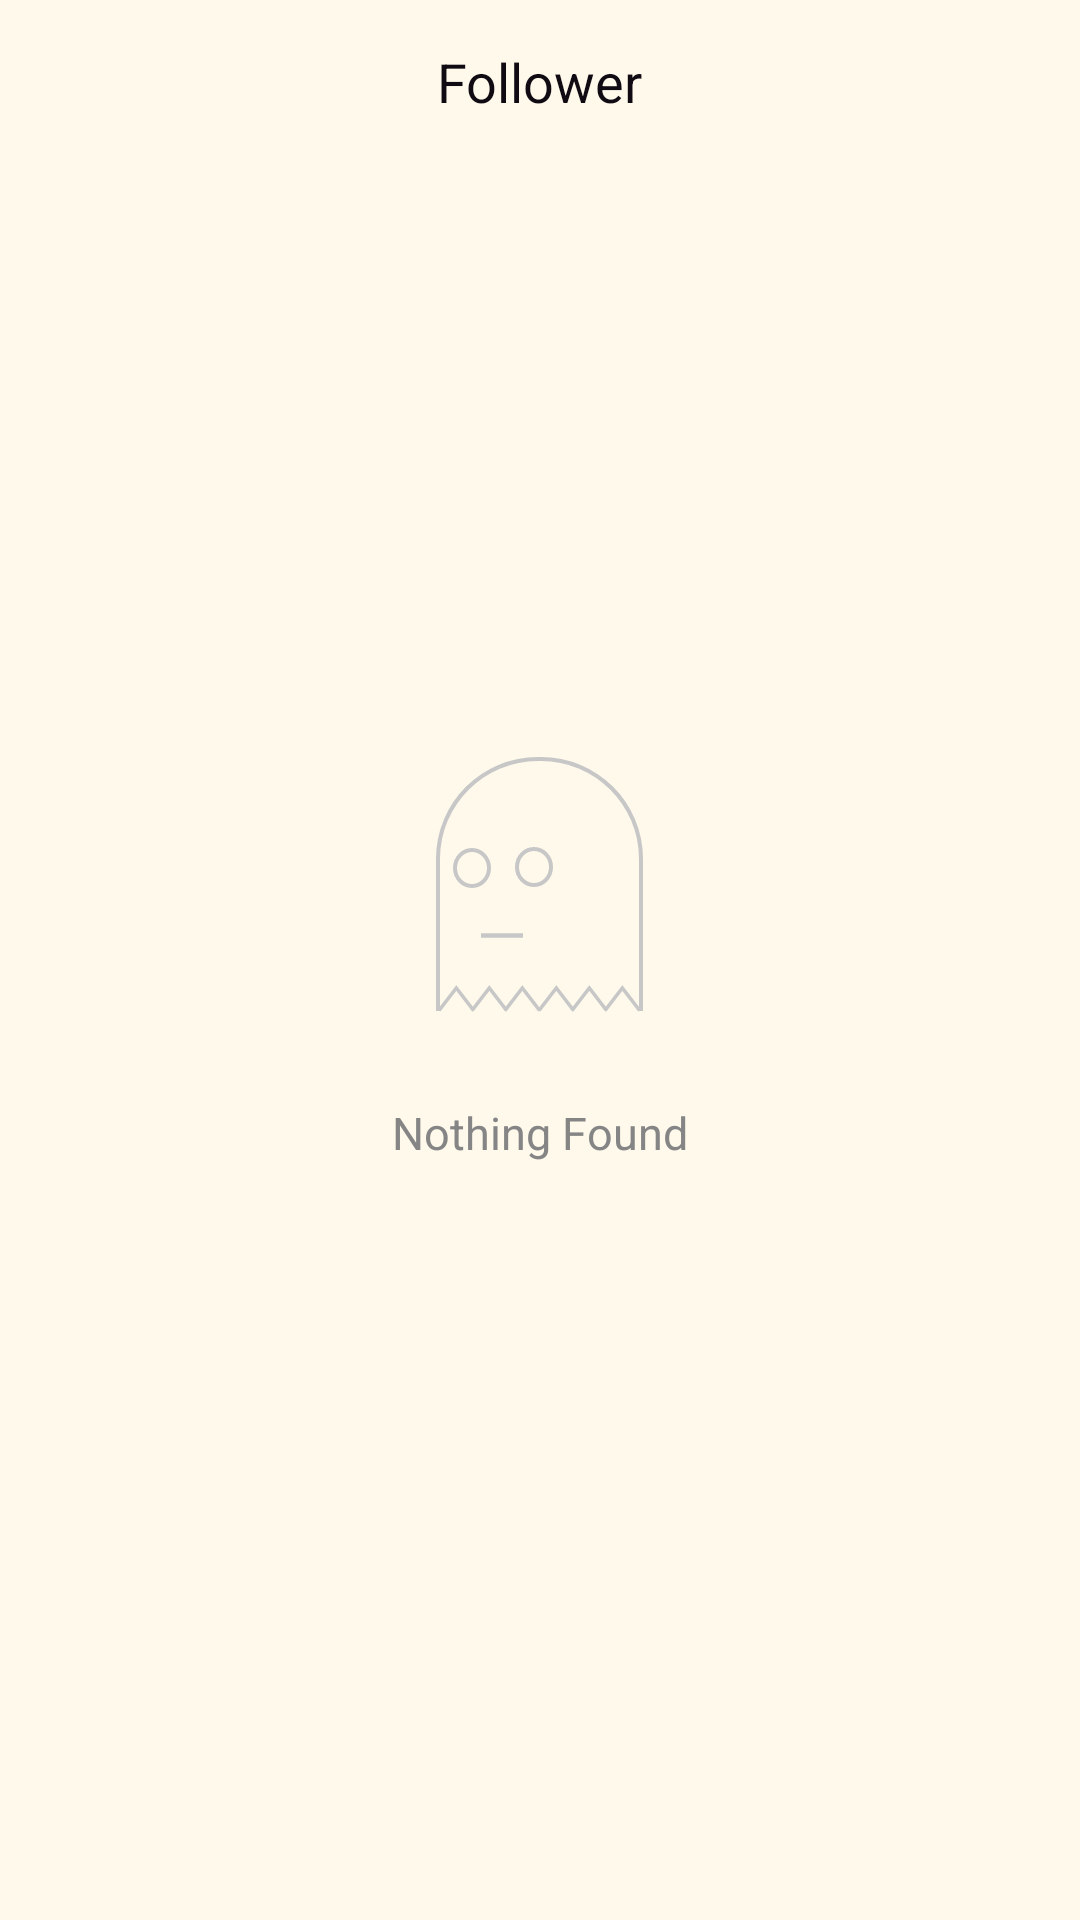

Named icons in this screenshot (1080×1920) and their bounding boxes, (x1=x1, y1=y1, x2=x2, y2=y2):
noresult: (x1=436, y1=757, x2=643, y2=1011)
